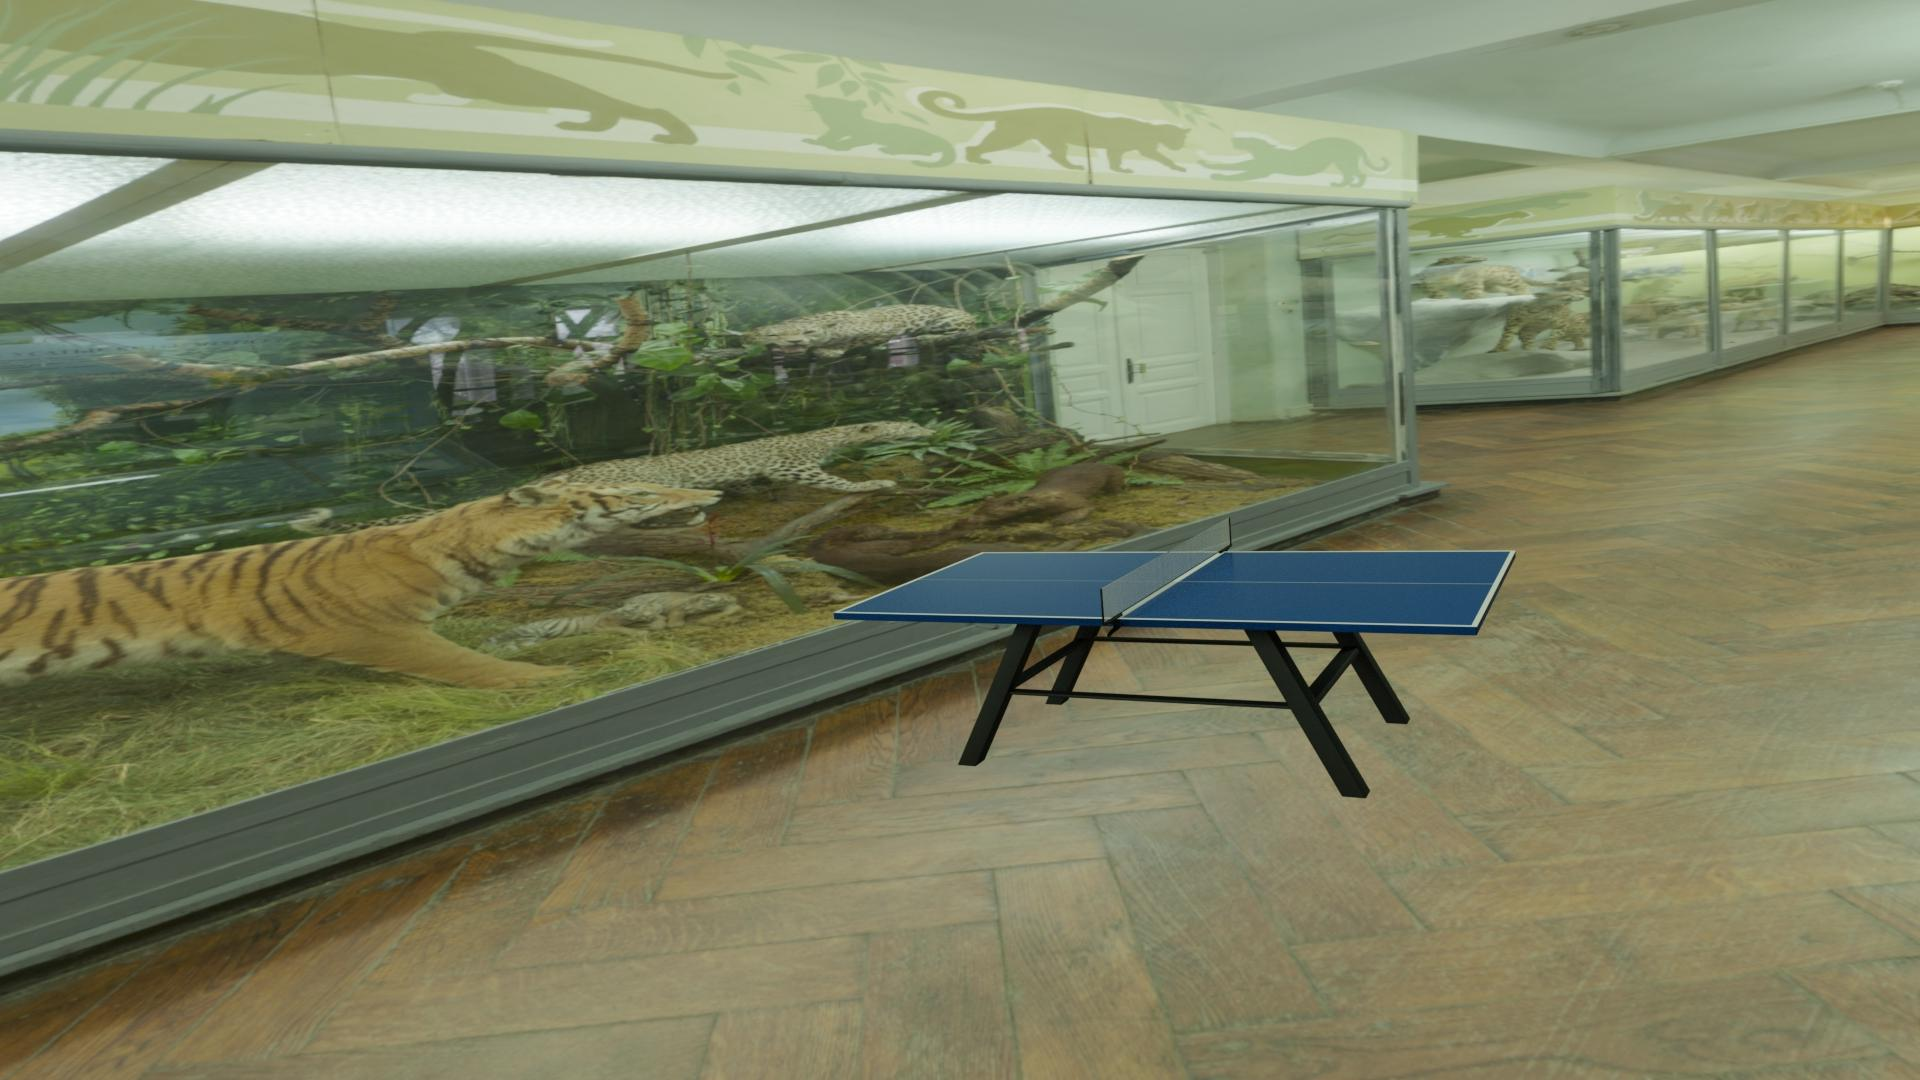table: (839, 551, 1511, 625)
